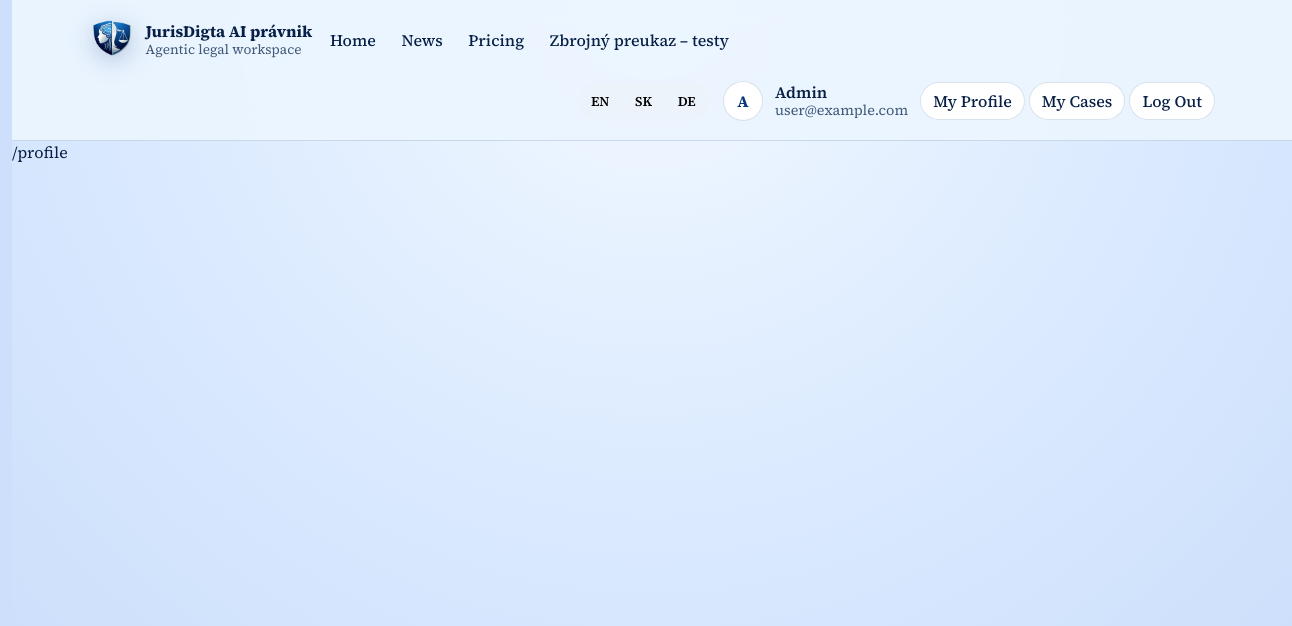
Test: Navigation profile actions › sends signed-in users to login after logout
The width and height of the screenshot is (1292, 626).
Click the button "Log Out". click: (1172, 101)
box: [1129, 82, 1215, 120]
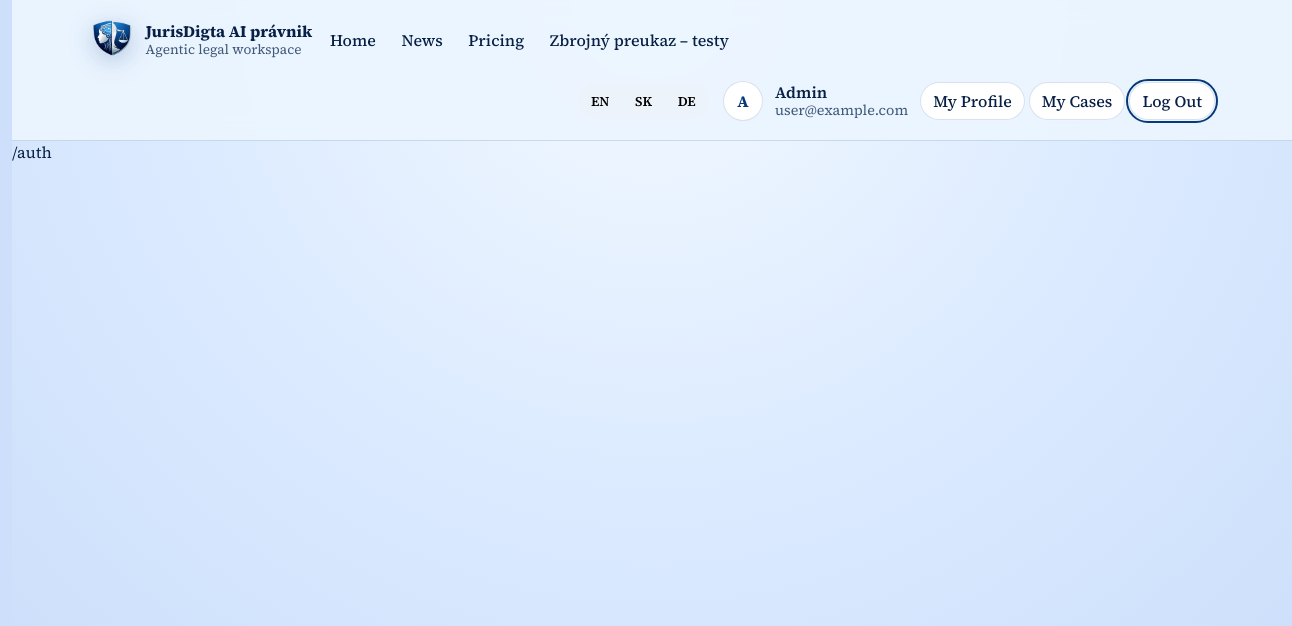
Now the text with test id "current-path" reads "/auth", box [12, 141, 52, 163]
